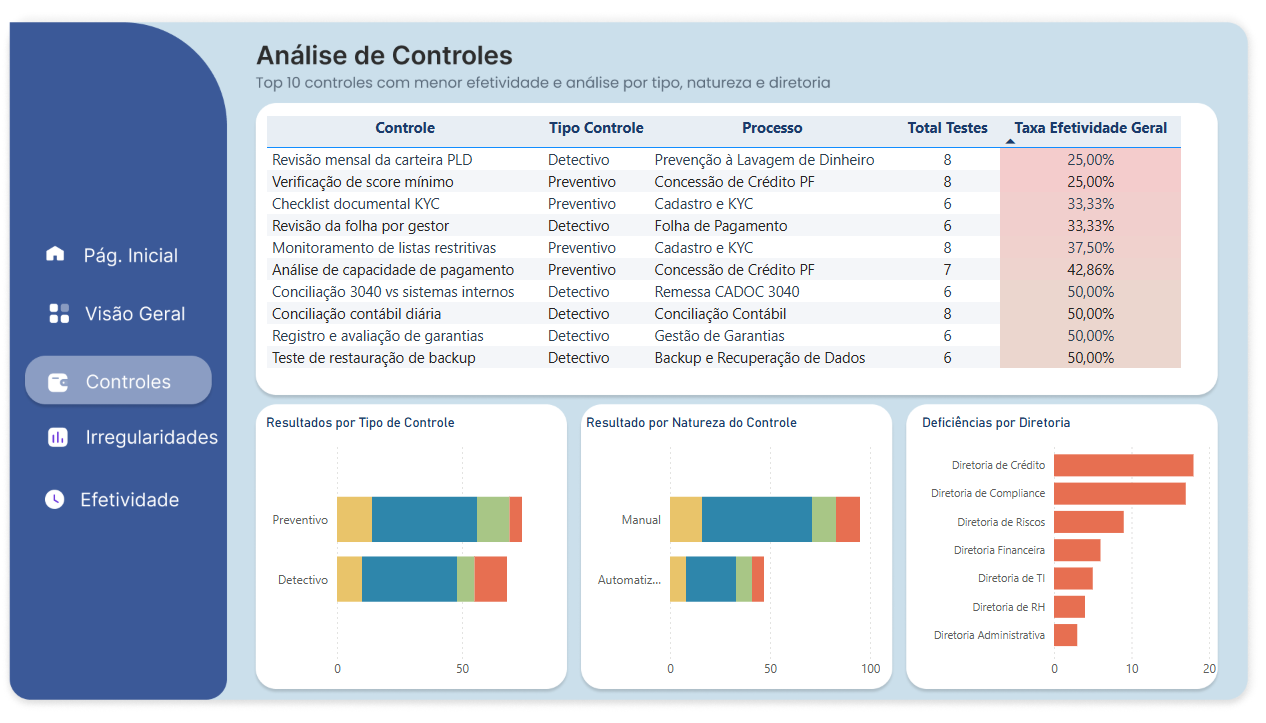

This screenshot's page, from the dashboard's own definition file:
{"tool":"powerbi","page":{"name":"Controles","canvas":[1280,720],"ordinal":2},"visuals":[{"type":"tableEx","fields":{"Values":["dim_controle.nome_controle","dim_controle.tipo_controle","dim_processo.nome_processo","_medidas.total_testes","_medidas.Taxa Efetividade Geral"]},"box":[272,112,960,272],"z":0},{"type":"barChart","title":"Resultados por Tipo de Controle","fields":{"Category":["dim_controle.tipo_controle"],"Y":["_medidas.total_testes"],"Series":["fato_teste_controle.resultado_teste"]},"box":[272,416,288,272],"z":1000},{"type":"barChart","title":"Resultado por Natureza do Controle","fields":{"Y":["_medidas.total_testes"],"Series":["fato_teste_controle.resultado_teste"],"Category":["dim_controle.natureza_controle"]},"box":[592,416,304,272],"z":2000},{"type":"clusteredBarChart","title":"Deficiências por Diretoria","fields":{"Category":["dim_processo.diretoria"],"Y":["_medidas.total_testes"]},"box":[928,416,304,272],"z":3000},{"type":"actionButton","box":[48,224,160,48],"z":4000},{"type":"actionButton","box":[48,288,160,48],"z":5000},{"type":"actionButton","box":[48,416,176,48],"z":6000},{"type":"actionButton","box":[48,480,176,48],"z":7000}]}

Visuals, with their boxes in screenshot pixels (x1, y1, x2, y2), scaled from the page's 1280x720 canvas onto the 1266x723 screenshot:
tableEx - dim_controle.nome_controle x dim_controle.tipo_controle: region(269, 112, 1219, 386)
"Resultados por Tipo de Controle" barChart: region(269, 418, 554, 691)
"Resultado por Natureza do Controle" barChart: region(586, 418, 886, 691)
"Deficiências por Diretoria" clusteredBarChart: region(918, 418, 1219, 691)
actionButton: region(47, 225, 206, 273)
actionButton: region(47, 289, 206, 337)
actionButton: region(47, 418, 222, 466)
actionButton: region(47, 482, 222, 530)
